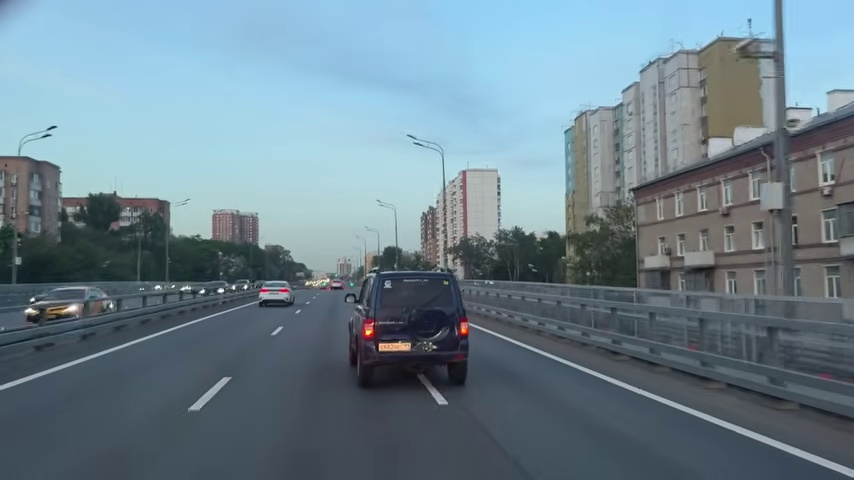apagada: (38, 122, 59, 143), (402, 130, 423, 150), (373, 196, 386, 210)
